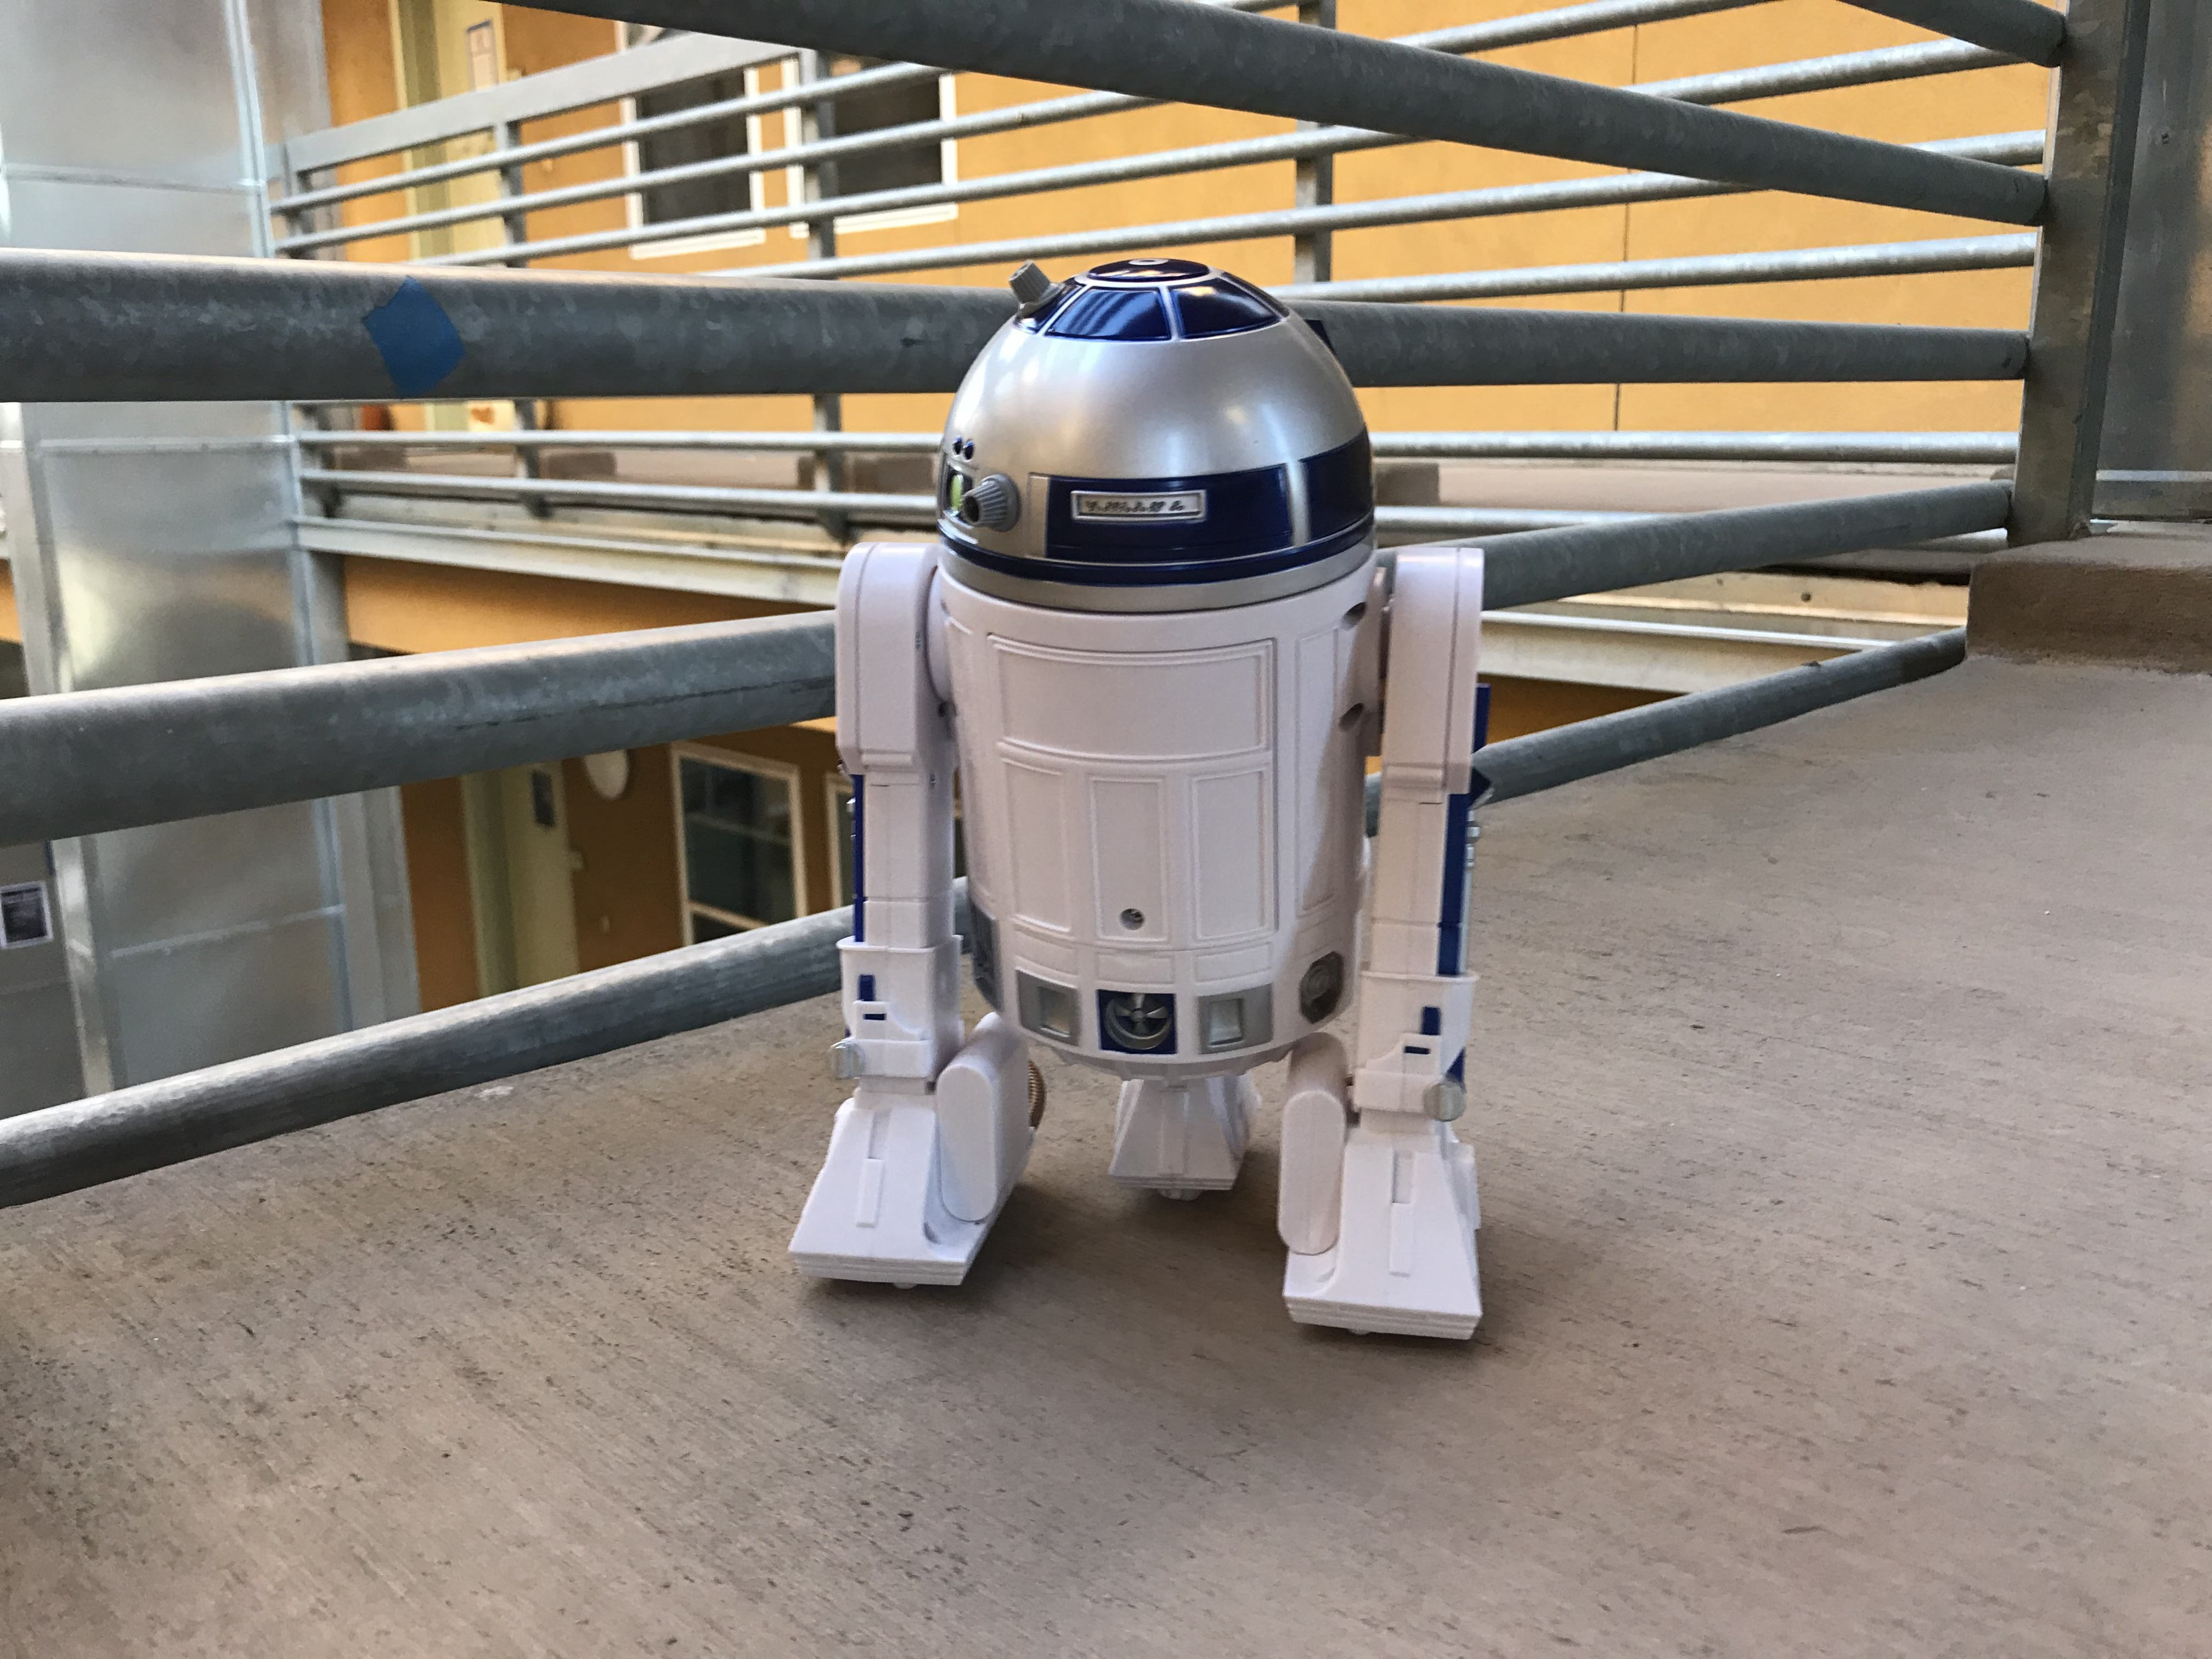r2d2: (792, 261, 1489, 1351)
